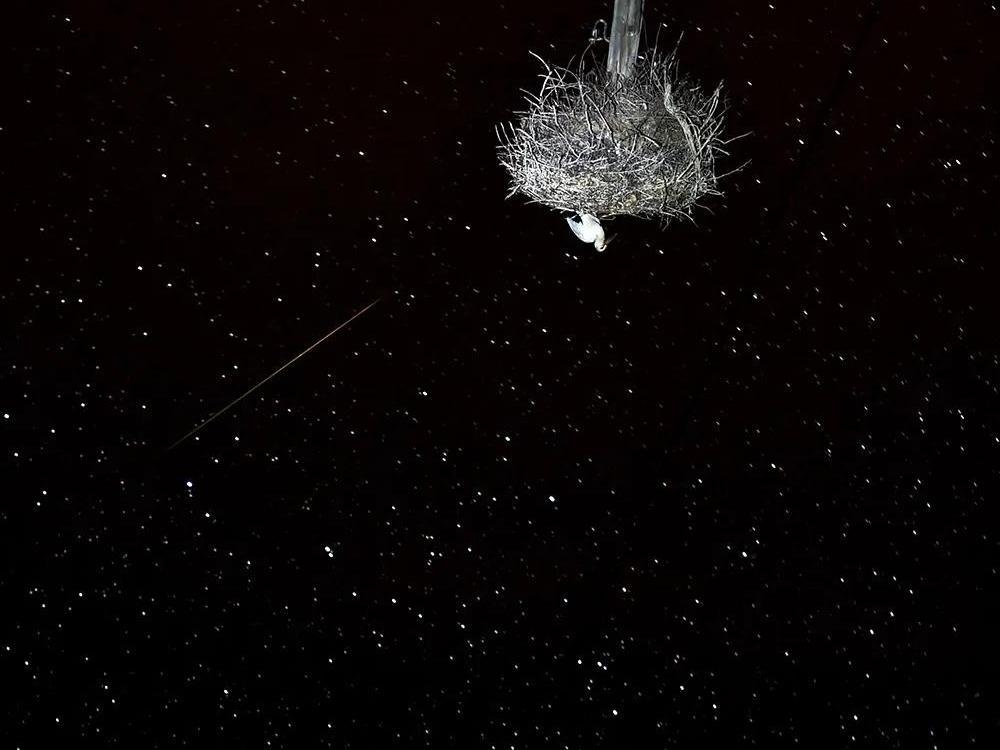meteorite: (144, 251, 455, 435)
